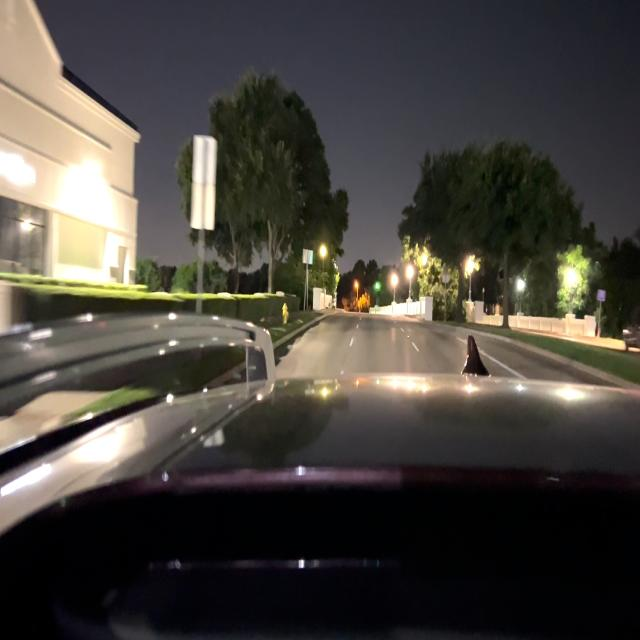back-of-sign: (193, 135, 215, 231), (304, 248, 313, 264)
